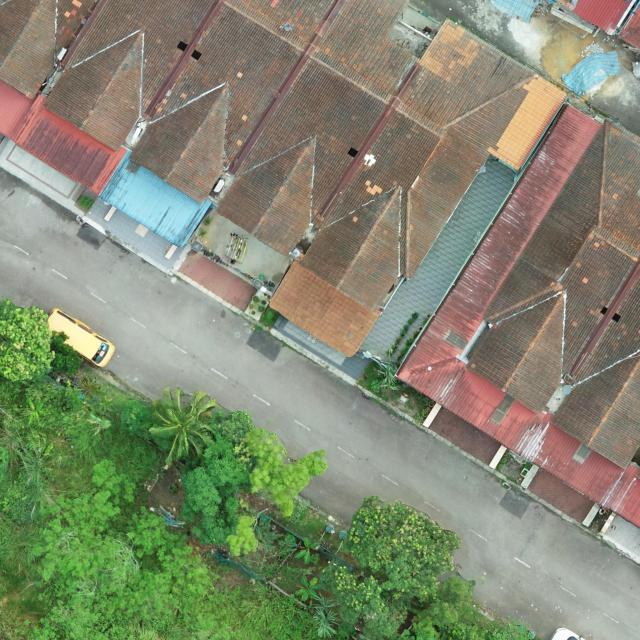Tree: (318, 495, 463, 640), (33, 460, 144, 602), (241, 428, 329, 516), (148, 386, 219, 464), (178, 464, 242, 546), (0, 298, 56, 384), (200, 408, 257, 488), (411, 573, 476, 640), (161, 532, 215, 598), (125, 505, 180, 561), (48, 329, 84, 375), (294, 536, 320, 566), (295, 576, 322, 602)
